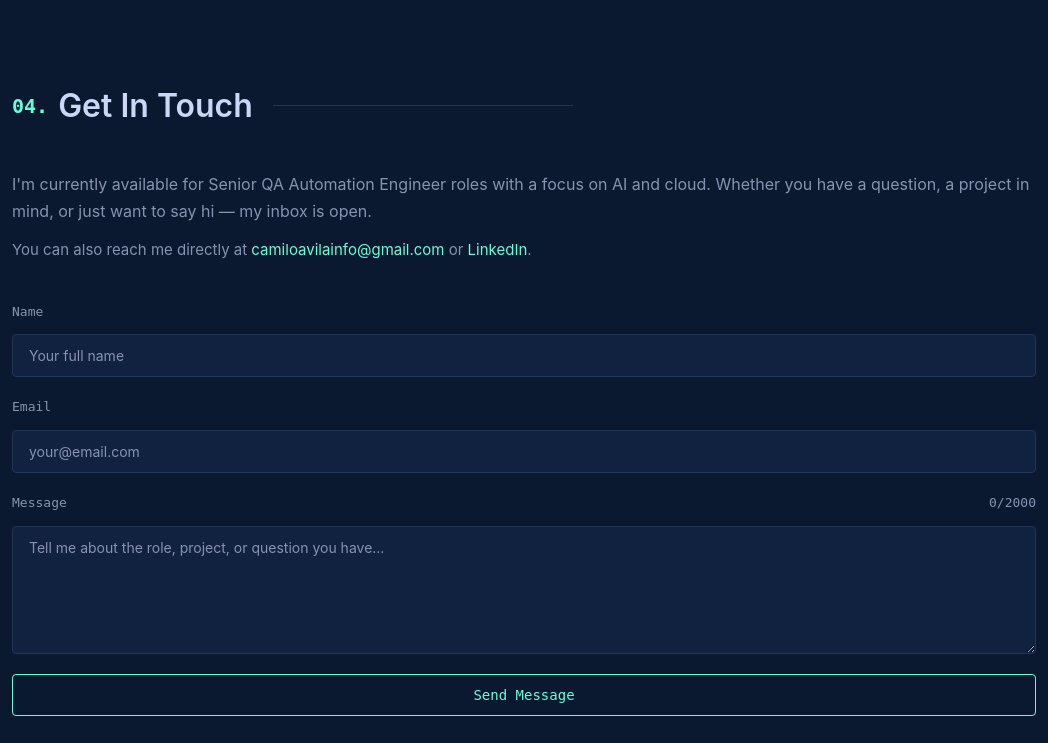
Test case: ContactForm › Form Submission › shows server error message on API error
The width and height of the screenshot is (1048, 743).
Type "John" into the field labelled "Name" at (524, 356), box [12, 334, 1036, 377]
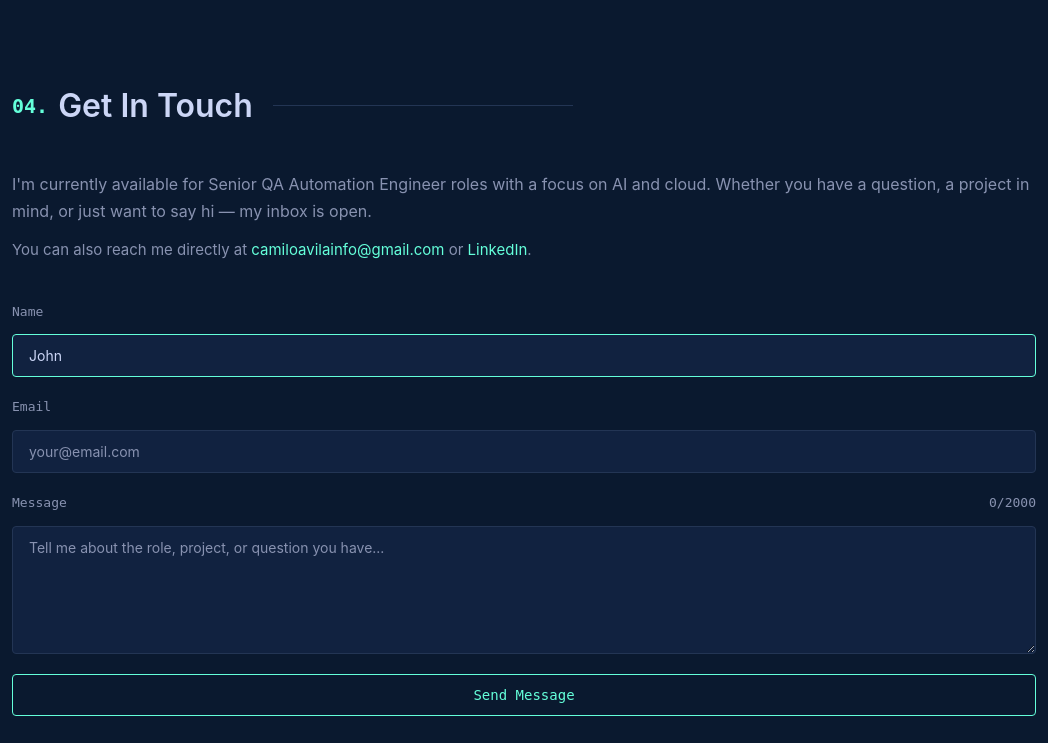
Type "john@example.com" into the field labelled "Email" at (524, 452), box [12, 430, 1036, 473]
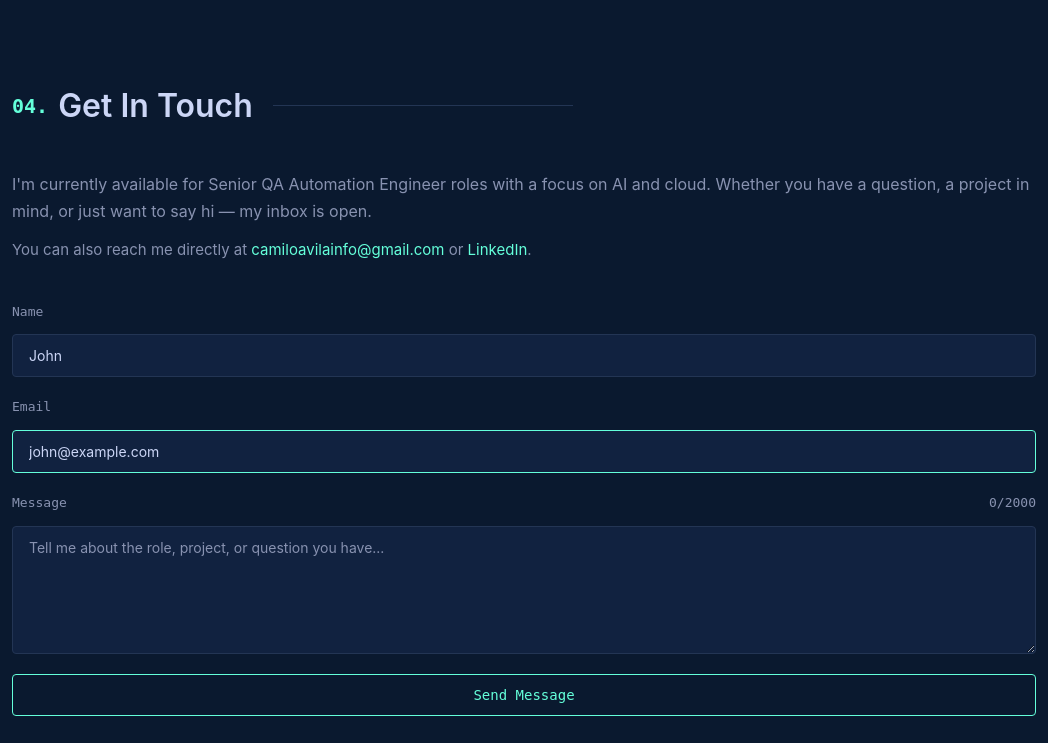
Type "Test" into the text box labelled "Message 0/2000" at (524, 590), box [12, 526, 1036, 654]
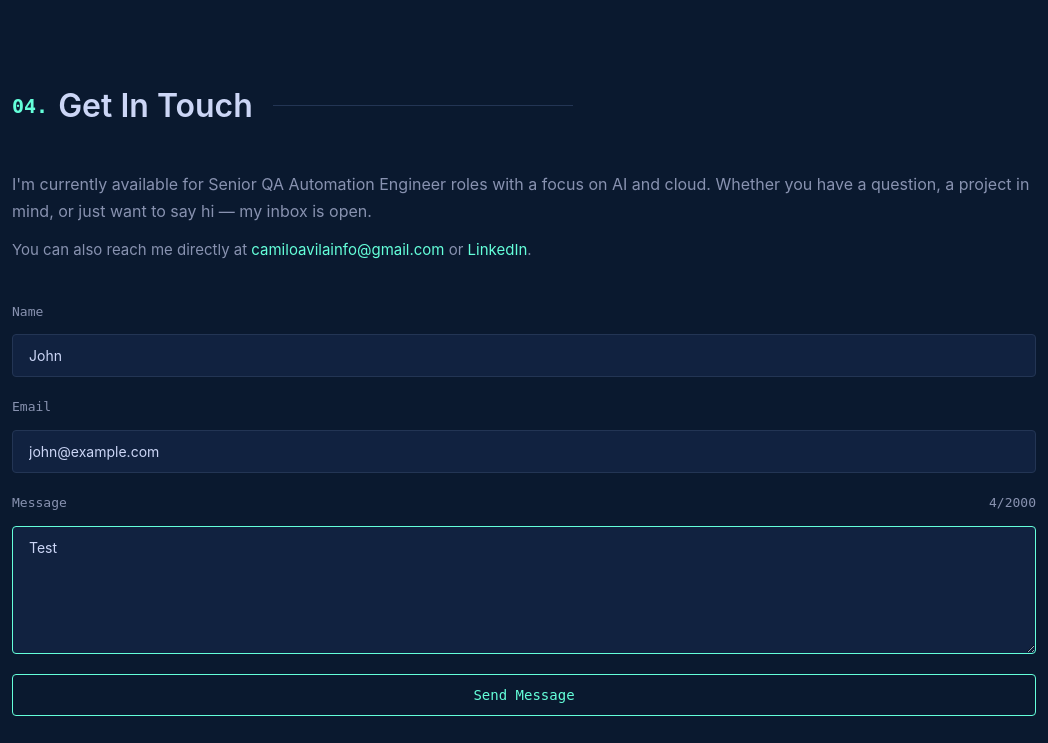
Click the button "Send Message" at (524, 695), box [12, 674, 1036, 716]
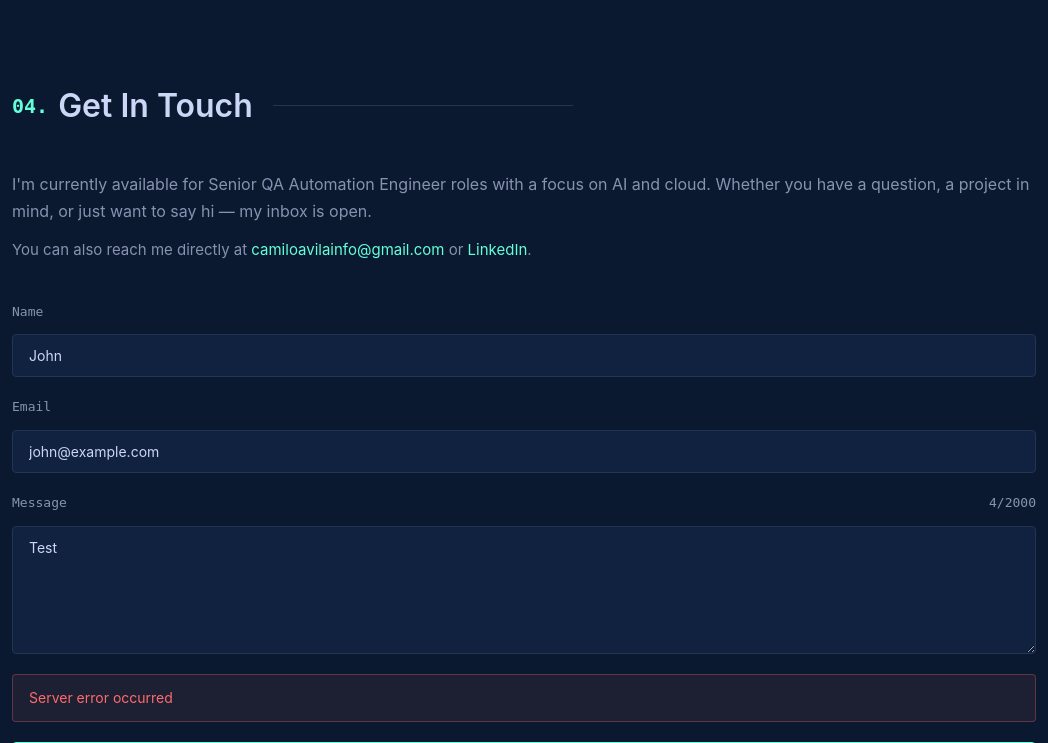
Expected: the text "Server error occurred" is shown, [12, 674, 1036, 722]
